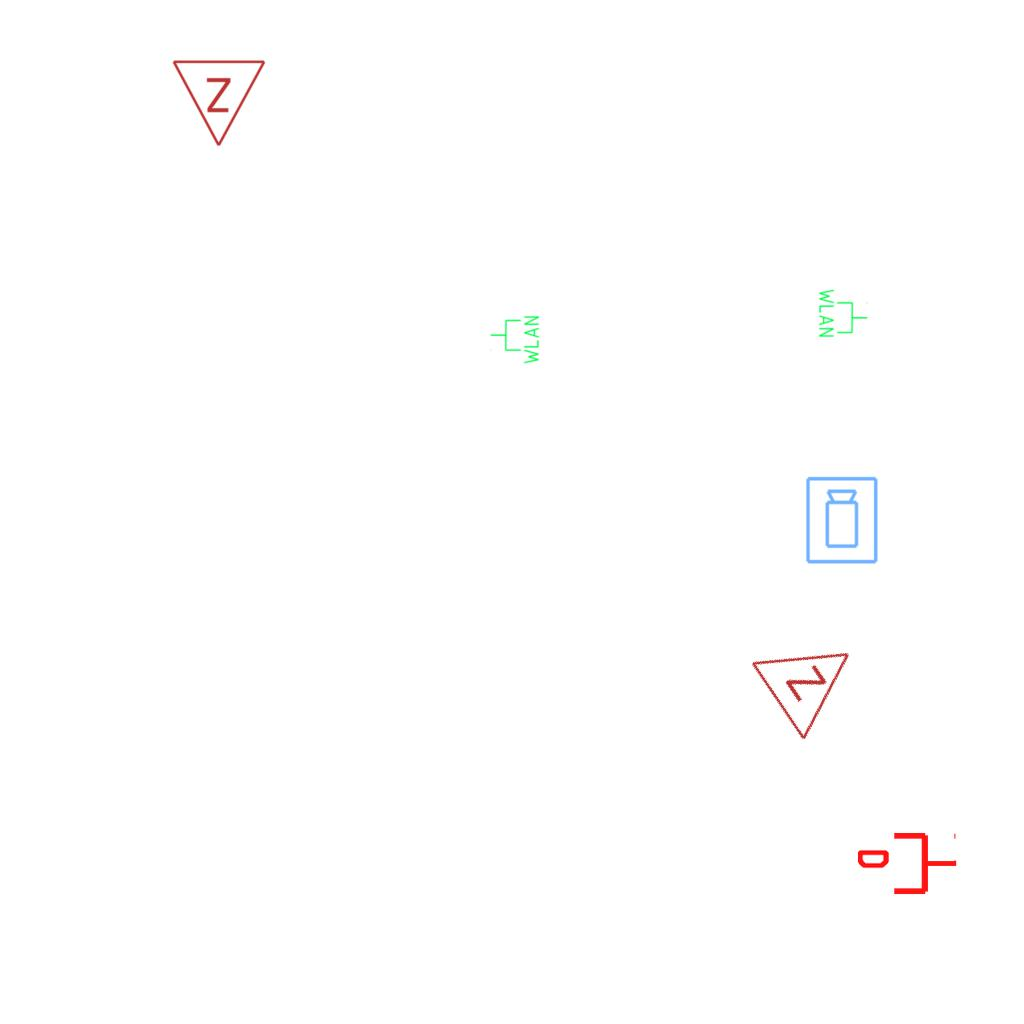Datenanschluss_einfach: (858, 829, 958, 898)
KFO_Kamera_mit_Festobjektiv: (804, 475, 881, 566)
WLAN: (489, 314, 541, 366), (817, 287, 869, 339)
Zimmersignalleuchte: (743, 608, 881, 746), (171, 53, 269, 153)
